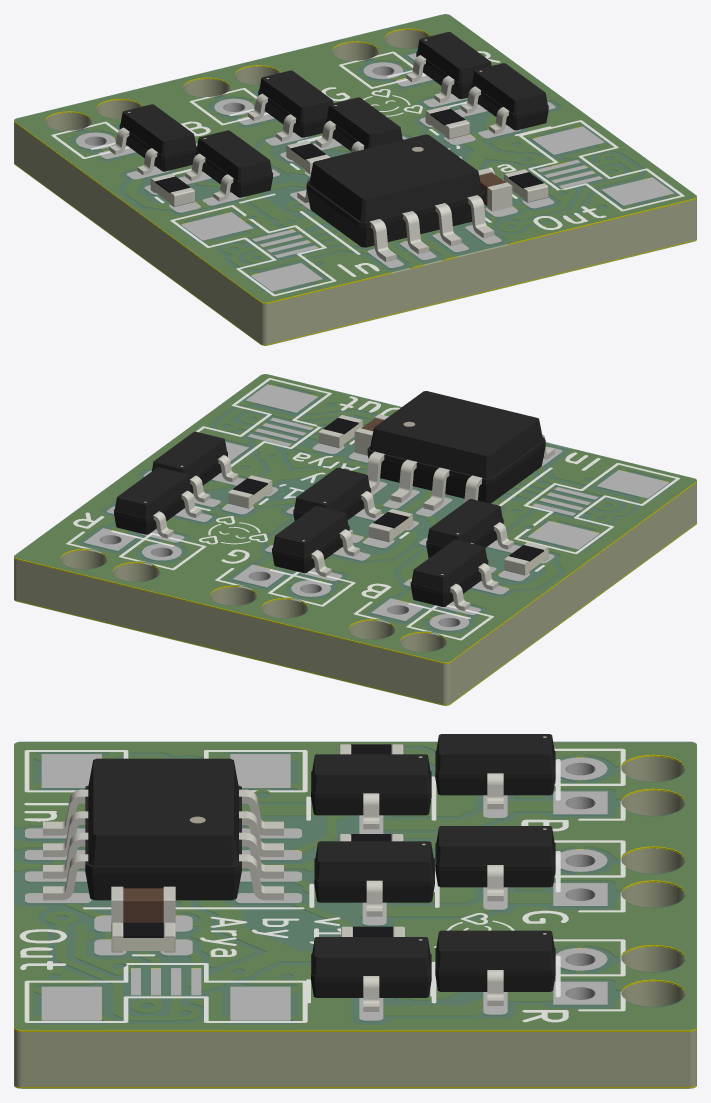
File: board.glb
The picture shows the model from 3 angles, top to bottom: view 1: azimuth 30°, elevation 25°; view 2: azimuth 150°, elevation 25°; view 3: azimuth 270°, elevation 25°; orthographic projection. The views are drawn at different scales.
Parts seen in each view (by area): view 1: board_soldermask (×2), board_PCB, board_copper, SOT-23 (×6), SO-8_3.9x4.9mm_P1.27mm, board_pad, board_silkscreen, R_0603_1608Metric (×4), C_0603_1608Metric; view 2: board_soldermask (×2), board_PCB, board_copper, SOT-23 (×6), SO-8_3.9x4.9mm_P1.27mm, board_pad, board_silkscreen, R_0603_1608Metric (×4), C_0603_1608Metric; view 3: board_soldermask (×2), board_PCB, board_copper, SOT-23 (×6), SO-8_3.9x4.9mm_P1.27mm, board_pad, board_silkscreen, R_0603_1608Metric (×3), C_0603_1608Metric.
Part boxes in pixels (left/top/right/bottom): board_soldermask (×2): left=14, top=14, right=696, bottom=345; board_PCB: left=14, top=30, right=696, bottom=344; board_copper: left=14, top=15, right=696, bottom=345; SOT-23 (×6): left=109, top=32, right=548, bottom=201; SO-8_3.9x4.9mm_P1.27mm: left=297, top=134, right=494, bottom=262; board_pad: left=76, top=53, right=673, bottom=291; board_silkscreen: left=51, top=51, right=684, bottom=296; R_0603_1608Metric (×4): left=150, top=106, right=548, bottom=206; C_0603_1608Metric: left=478, top=168, right=512, bottom=211; board_soldermask (×2): left=14, top=374, right=696, bottom=705; board_PCB: left=14, top=383, right=696, bottom=704; board_copper: left=14, top=375, right=696, bottom=705; SOT-23 (×6): left=114, top=431, right=513, bottom=610; SO-8_3.9x4.9mm_P1.27mm: left=367, top=391, right=554, bottom=510; board_pad: left=84, top=384, right=669, bottom=631; board_silkscreen: left=66, top=378, right=679, bottom=640; R_0603_1608Metric (×4): left=228, top=415, right=548, bottom=575; C_0603_1608Metric: left=354, top=414, right=388, bottom=455; board_soldermask (×2): left=14, top=741, right=696, bottom=1088; board_PCB: left=14, top=747, right=696, bottom=1086; board_copper: left=14, top=742, right=696, bottom=1088; SOT-23 (×6): left=311, top=734, right=555, bottom=1011; SO-8_3.9x4.9mm_P1.27mm: left=43, top=758, right=283, bottom=900; board_pad: left=25, top=754, right=607, bottom=1021; board_silkscreen: left=19, top=748, right=625, bottom=1022; R_0603_1608Metric (×3): left=111, top=744, right=404, bottom=952; C_0603_1608Metric: left=111, top=886, right=175, bottom=923.
Size of the model in its own units: 0.017 by 0.00352 by 0.017.
